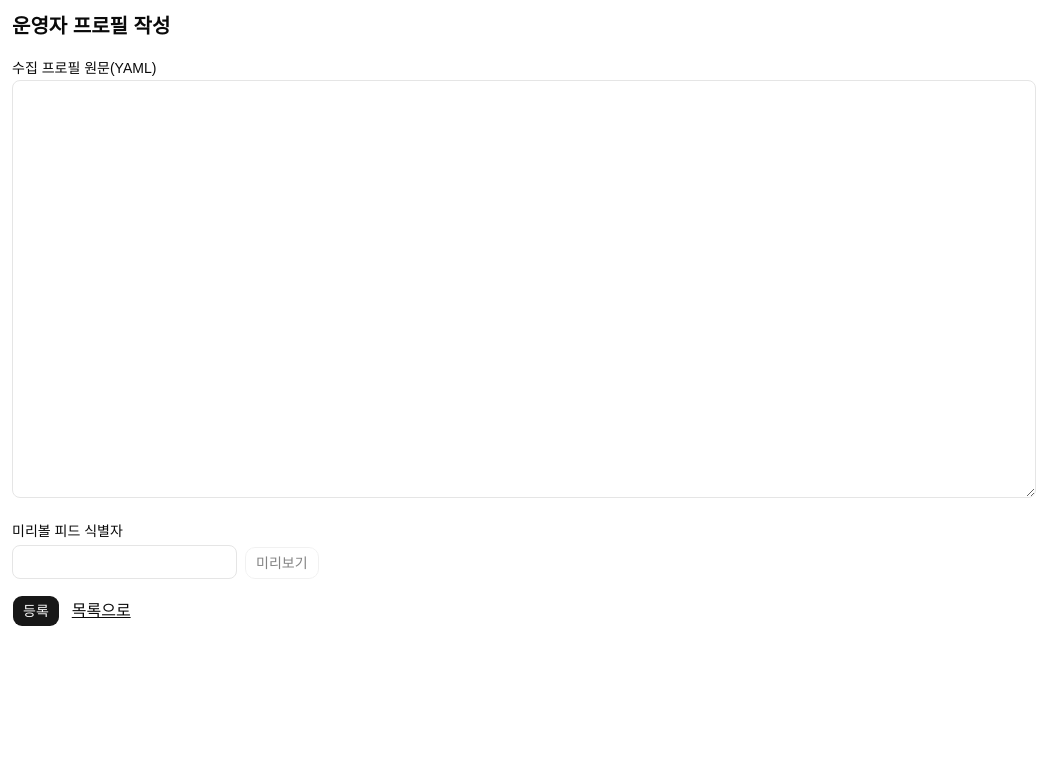
Test: ProfileEditorPage › 새 원문을 등록하면 그 소스의 편집 화면으로 옮겨 등록을 알린다
The image size is (1048, 780).
Type "source" into the text box labelled "수집 프로필 원문(YAML)" at (524, 289), box [12,80,1036,498]
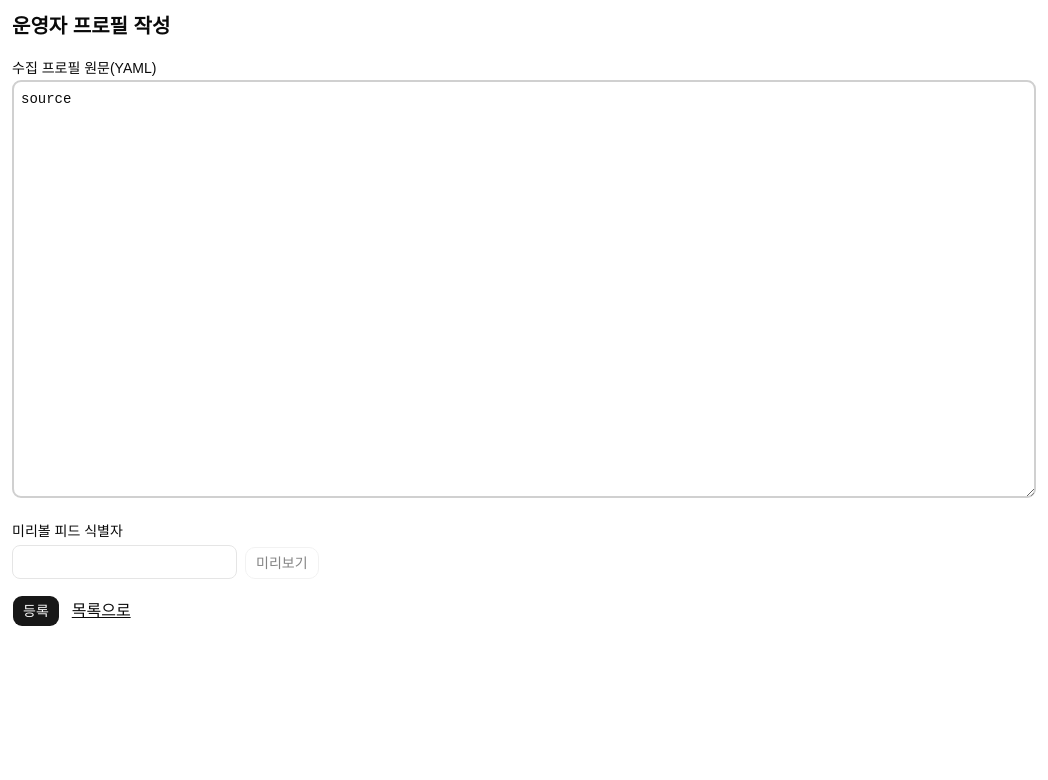
Click the button "등록" at (36, 611), box [12,595,60,627]
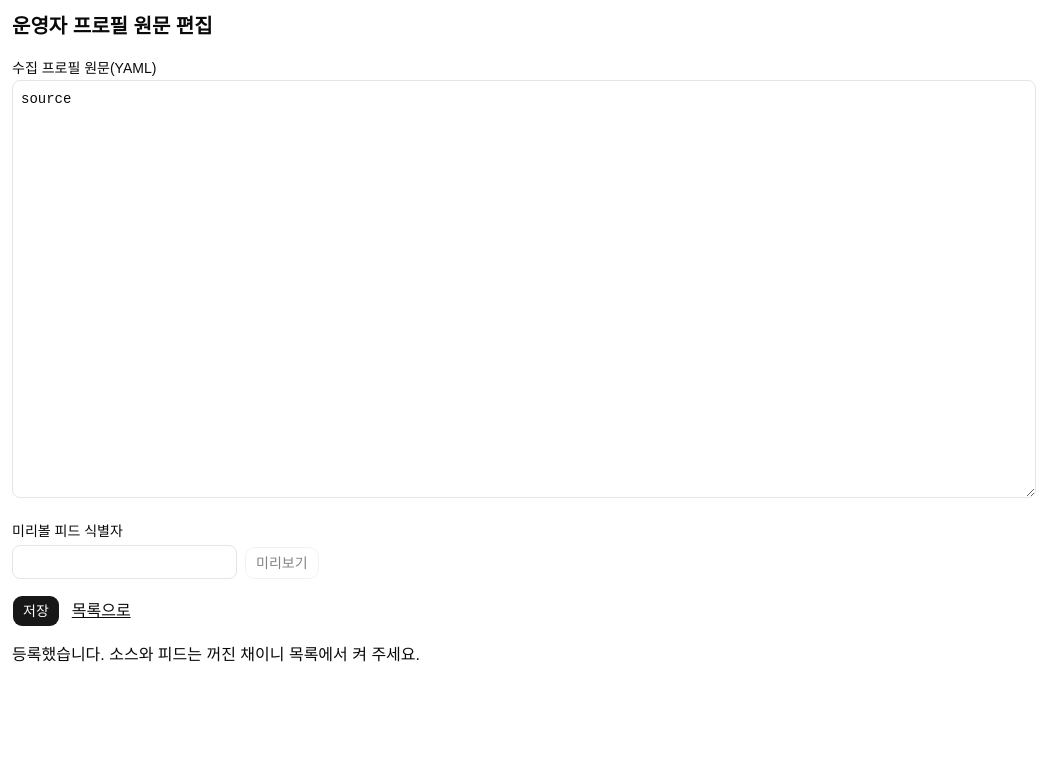
Now the message reads "등록했습니다. 소스와 피드는 꺼진 채이니 목록에서 켜 주세요.", box [12,646,420,663]
Now the heading "운영자 프로필 원문 편집" is shown, box [12,15,213,37]
Now the button "저장" is shown, box [12,595,60,627]
